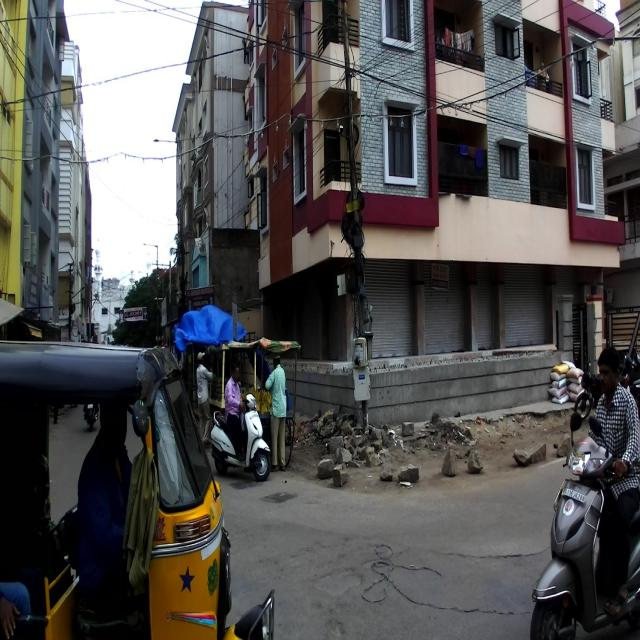autorickshaw: (0, 336, 275, 638)
scooter: (528, 414, 640, 639), (209, 393, 271, 482)
